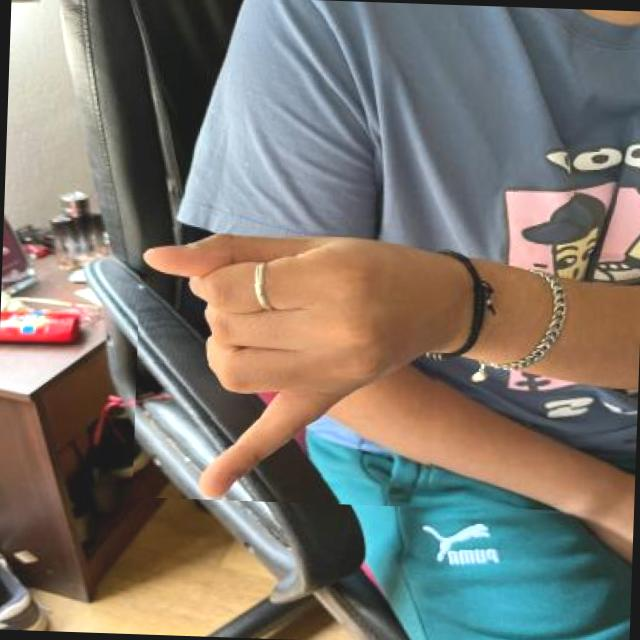Z: (132, 212, 448, 508)
